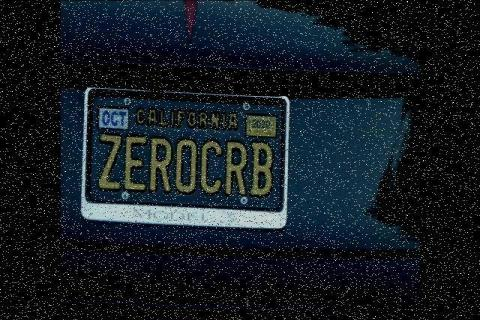LicensePlate: (85, 87, 291, 231)
